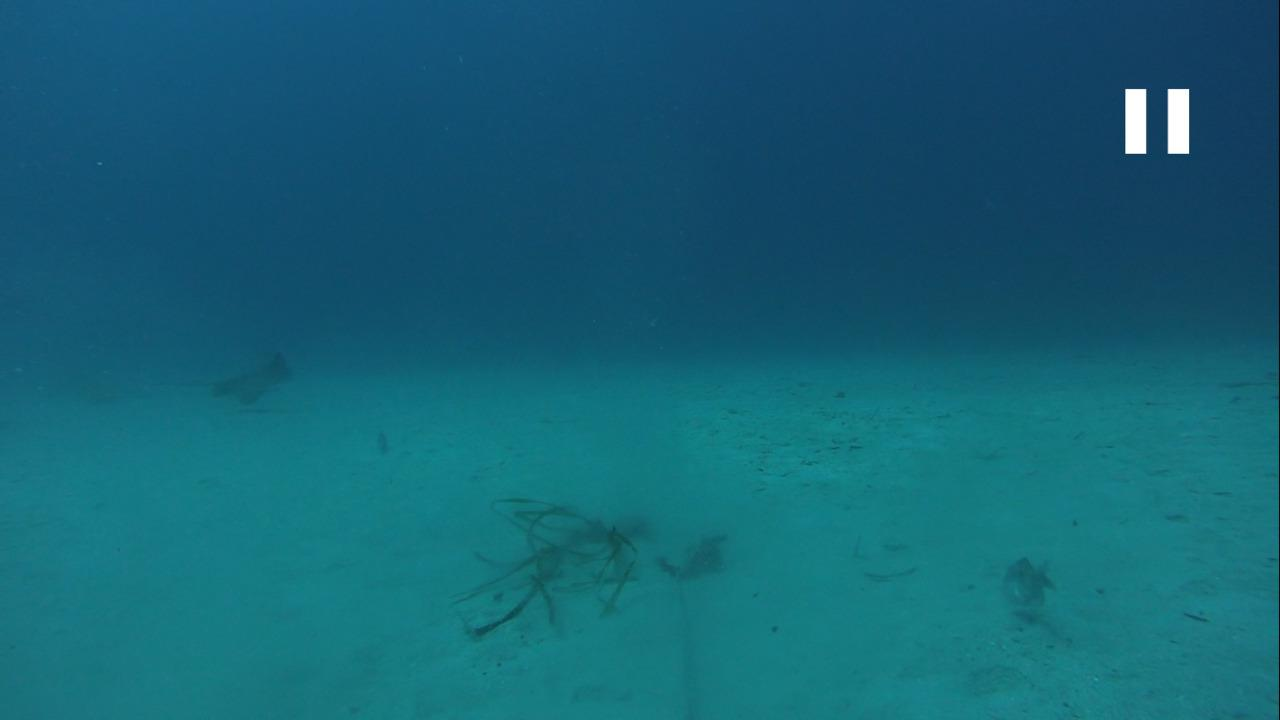myliobatis: (128, 346, 303, 416)
raor: (989, 545, 1055, 609)
